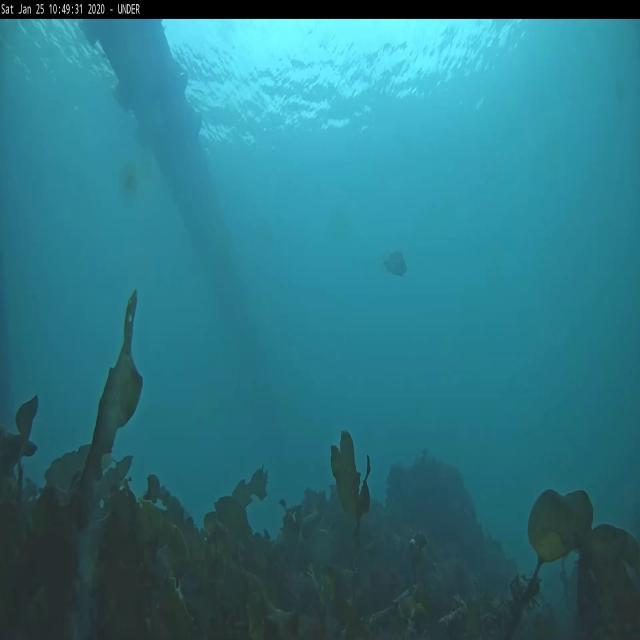fish: (384, 246, 411, 282)
